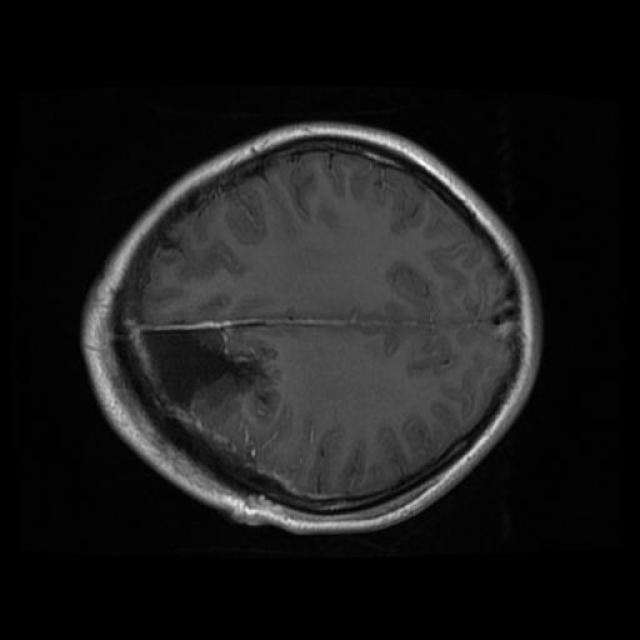Glioma: (142, 326, 279, 418)
